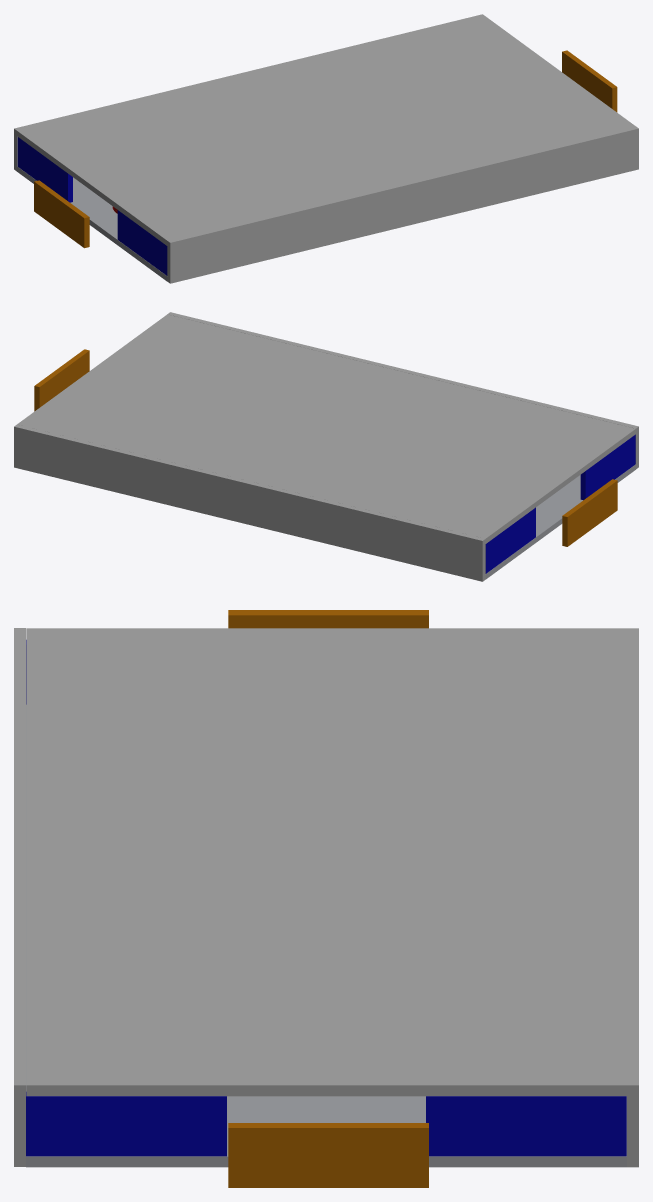
The model's file is finalproject1.obj.
The picture shows the model from 3 angles, top to bottom: view 1: azimuth 30°, elevation 25°; view 2: azimuth 150°, elevation 25°; view 3: azimuth 270°, elevation 25°; orthographic projection. The views are drawn at different scales.
Parts seen in each view (by area): view 1: bottomwall.001_Cube.004, sidewall1_Cube.002, Cube.002_Cube.020, bottomwall_Cube.001, sidewall1.001_Cube.017, Cube.000_Cube.018, Cube.001_Cube.019, Cube.005_Cube.015; view 2: bottomwall.001_Cube.004, sidewall1.001_Cube.017, Cube.002_Cube.020, bottomwall_Cube.001, sidewall1_Cube.002, Cube.001_Cube.019, Cube.000_Cube.018, Cube.005_Cube.015; view 3: bottomwall.001_Cube.004, Cube.005_Cube.015, Cube.003_Cube.011, Cube.004_Cube.016, bottomwall_Cube.001, sidewall1.001_Cube.017, sidewall1_Cube.002, Cube.002_Cube.020.
Part boxes in pixels (x1,y1,x2,y2): bottomwall.001_Cube.004: (17, 16, 635, 245); sidewall1_Cube.002: (167, 126, 638, 283); Cube.002_Cube.020: (34, 180, 89, 248); bottomwall_Cube.001: (17, 166, 167, 281); sidewall1.001_Cube.017: (14, 14, 484, 171); Cube.000_Cube.018: (17, 137, 72, 202); Cube.001_Cube.019: (117, 210, 167, 275); Cube.005_Cube.015: (562, 50, 617, 112); bottomwall.001_Cube.004: (17, 314, 635, 543); sidewall1.001_Cube.017: (14, 424, 485, 581); Cube.002_Cube.020: (562, 479, 617, 546); bottomwall_Cube.001: (485, 464, 635, 579); sidewall1_Cube.002: (167, 312, 638, 469); Cube.001_Cube.019: (580, 434, 635, 500); Cube.000_Cube.018: (485, 507, 535, 573); Cube.005_Cube.015: (34, 349, 89, 411); bottomwall.001_Cube.004: (26, 628, 626, 1096); Cube.005_Cube.015: (228, 1123, 428, 1187); Cube.003_Cube.011: (26, 1092, 226, 1156); Cube.004_Cube.016: (426, 1096, 626, 1156); bottomwall_Cube.001: (26, 705, 626, 1167); sidewall1.001_Cube.017: (627, 628, 638, 1167); sidewall1_Cube.002: (14, 628, 25, 1166); Cube.002_Cube.020: (228, 610, 428, 628).
Bounding box in the file's own units: 20.48 × 1.51 × 10.4.
